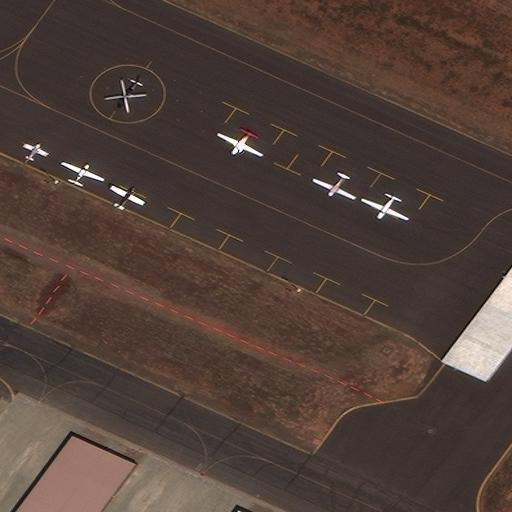Small Civil Transport: (360, 195, 406, 221), (216, 131, 261, 157), (311, 174, 354, 200), (62, 161, 104, 184), (111, 184, 146, 208), (25, 142, 49, 160)
